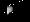person: (9, 5, 19, 17)
